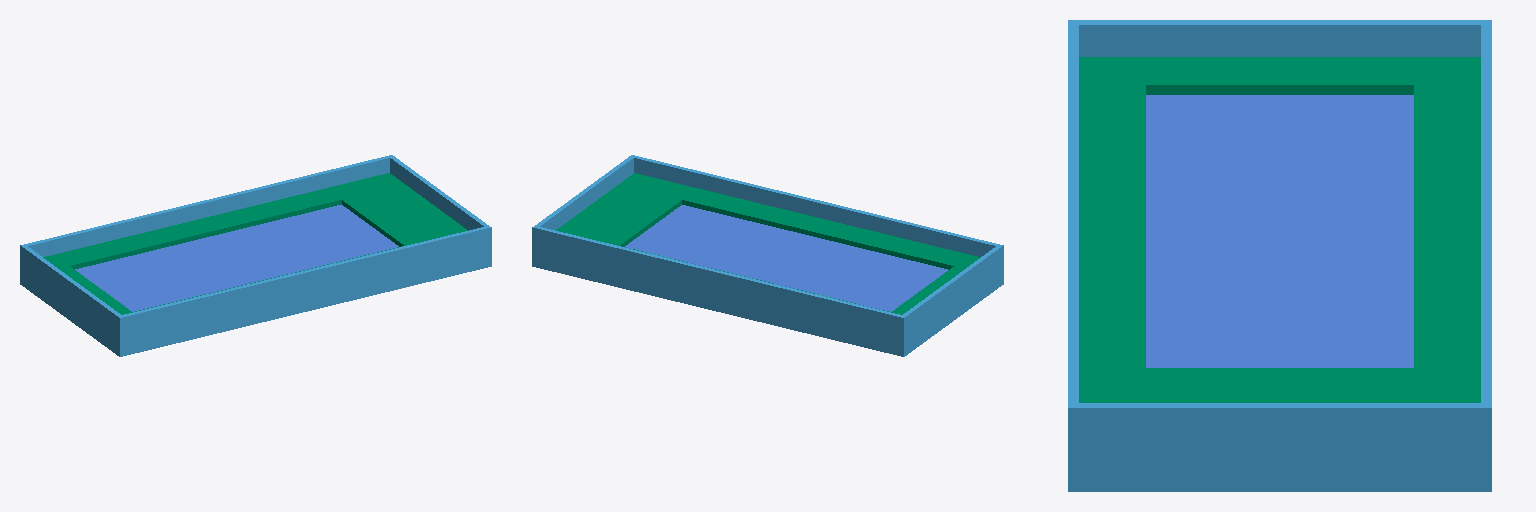
robot.urdf — right-pull-door:
<?xml version="1.0" ?>
<robot name="right-pull-door">
	<link name="base"/>
	<link name="link_0">
		<visual name="out-frame">
			<origin xyz="0 0 0"/>
			<geometry>
				<mesh filename="texture_dae/frame.dae" scale="1.0170325701021419 1.0170325701021419 1.0170325701021419"/>
			</geometry>
		</visual>
		<collision>
			<origin xyz="0 0 0"/>
			<geometry>
				<mesh filename="texture_dae/frame.dae" scale="1.0170325701021419 1.0170325701021419 1.0170325701021419"/>
			</geometry>
		</collision>
	</link>
	<joint name="joint_0" type="fixed">
		<origin rpy="1.570796326794897 0 -1.570796326794897" xyz="0 0 0"/>
		<child link="link_0"/>
		<parent link="base"/>
	</joint>
	<link name="link_1">
		<visual name="surf-board">
			<origin xyz="0.39397353871548446 -0.8835841164585663 0"/>
			<geometry>
				<mesh filename="texture_dae/board.dae" scale="1.0170325701021419 1.0170325701021419 1.0170325701021419"/>
			</geometry>
		</visual>
		<collision>
			<origin xyz="0.39397353871548446 -0.8835841164585663 0"/>
			<geometry>
				<mesh filename="texture_dae/board.dae" scale="1.0170325701021419 1.0170325701021419 1.0170325701021419"/>
			</geometry>
		</collision>
	</link>
	<joint name="joint_1" type="revolute">
		<origin xyz="-0.39397353871548446 0.8835841164585663 0"/>
		<axis xyz="0 -1 0"/>
		<child link="link_1"/>
		<parent link="link_0"/>
		<limit lower="0" upper="1.5079644737231006"/>
	</joint>
	<link name="link_2">
		<visual name="handle">
			<origin xyz="0 0 0"/>
			<geometry>
				<mesh filename="texture_dae/9960014.dae" scale="0.8583211719425677 0.8583211719425677 0.8583211719425677"/>
			</geometry>
		</visual>
		<collision>
			<origin xyz="0 0 0"/>
			<geometry>
				<mesh filename="texture_dae/9960014.dae" scale="0.8583211719425677 0.8583211719425677 0.8583211719425677"/>
			</geometry>
		</collision>
	</link>
	<joint name="joint_2" type="revolute">
		<origin xyz="0.7088175702870454 -0.9529268191800144 0.030621241140837463"/>
		<child link="link_2"/>
		<parent link="link_1"/>
		<axis xyz="0 0 1"/>
		<limit lower="0" upper="1.5079644737231006"/>
	</joint>
</robot>

--- Render facts (derived) ---
3 views of the same robot in one strip: view 1: azimuth 30°, elevation 25°; view 2: azimuth 150°, elevation 25°; view 3: azimuth 270°, elevation 25° (orthographic).
Robot: right-pull-door — 4 links, 3 joints (2 revolute, 1 fixed); root link base; default pose: every joint at zero.
Visible links, largest first — view 1: link_0, link_1; view 2: link_0, link_1; view 3: link_1, link_0.
Link boxes in pixels (x1,y1,x2,y2): link_0: (20,155,491,356); link_1: (43,173,467,314); link_0: (532,155,1003,356); link_1: (556,173,980,314); link_1: (1079,57,1480,402); link_0: (1068,20,1491,491).
Size in the robot's own frame: 1.8 by 0.8326 by 0.1986 metres.
Meshes: 3 distinct files referenced, 3 mesh visuals loaded (3 Collada DAE).
